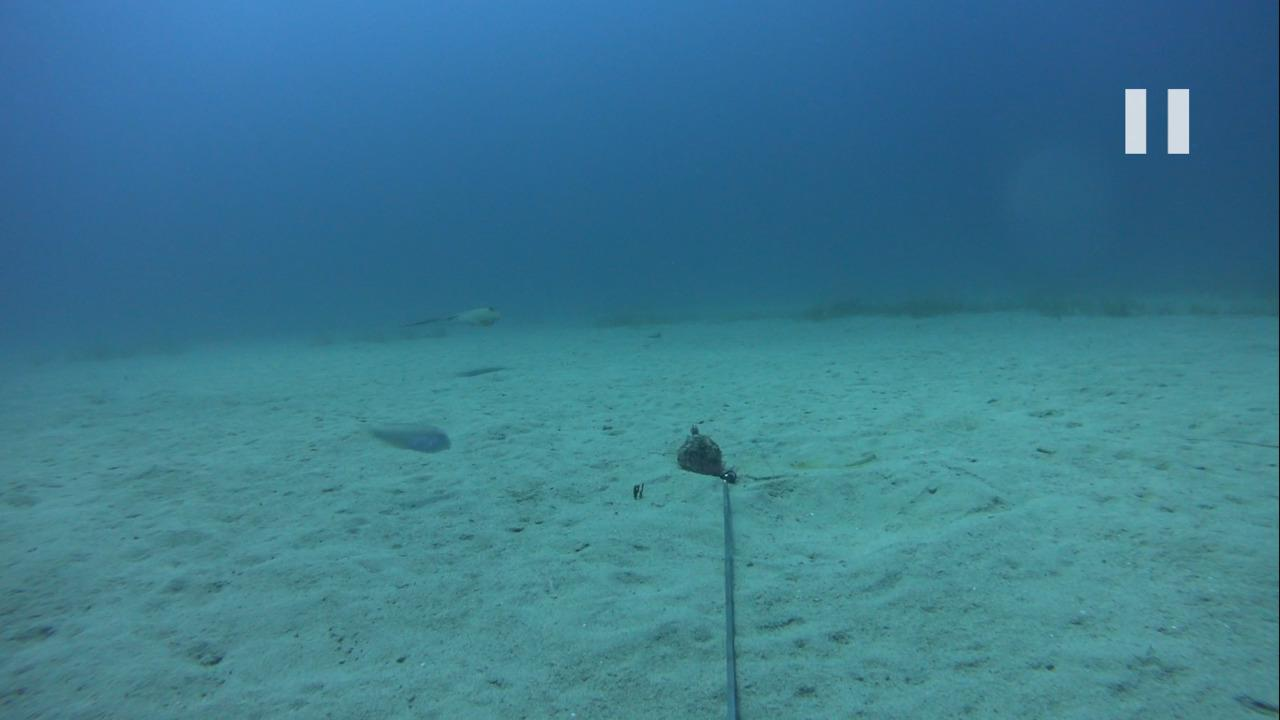myliobatis: (377, 295, 511, 341)
raor: (355, 416, 453, 458)
